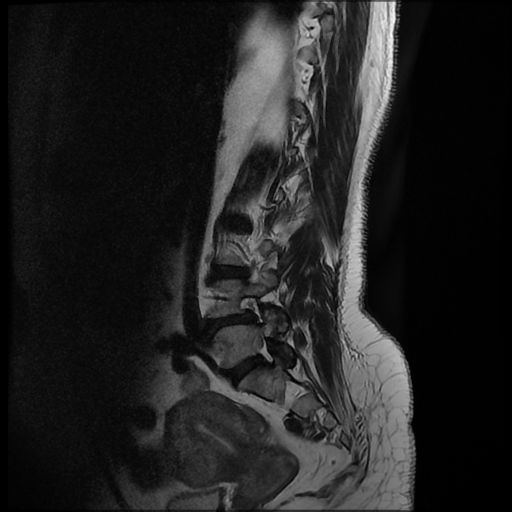RFS1: (233, 285, 271, 330)
